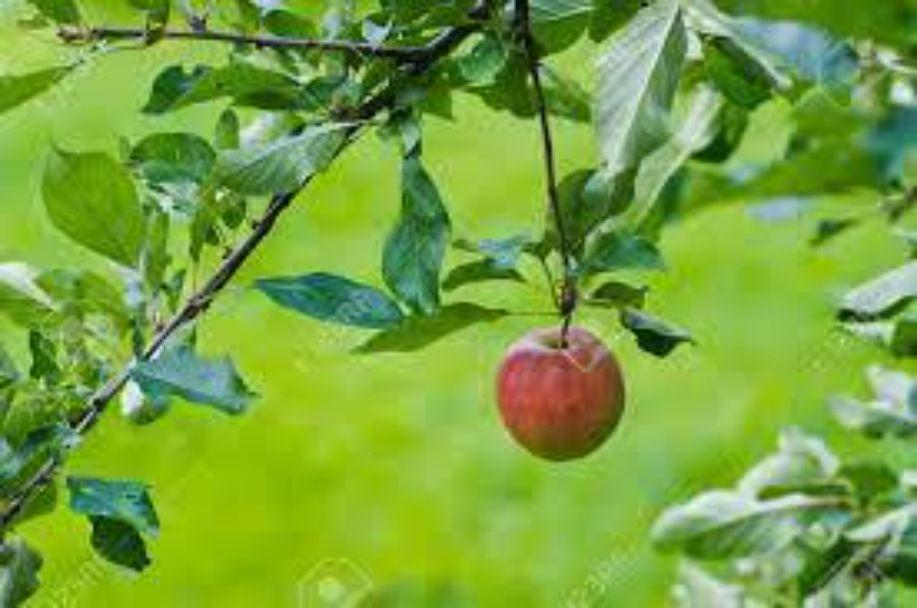fruit: (485, 311, 644, 474)
